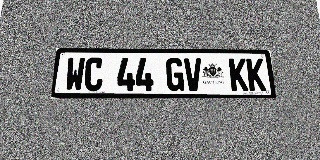4: (117, 58, 135, 91), (135, 58, 153, 91)
C: (84, 57, 104, 91)
G: (166, 58, 184, 91)
K: (246, 58, 266, 91), (229, 58, 248, 91)
V: (184, 58, 202, 91)
W: (65, 57, 85, 91)
